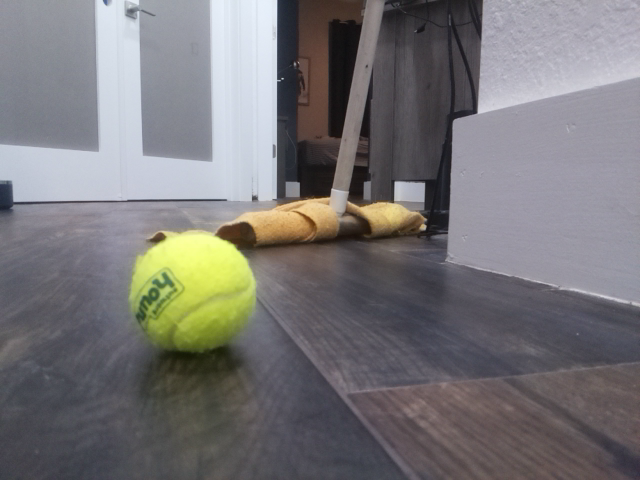yellow-ball: (128, 228, 258, 356)
